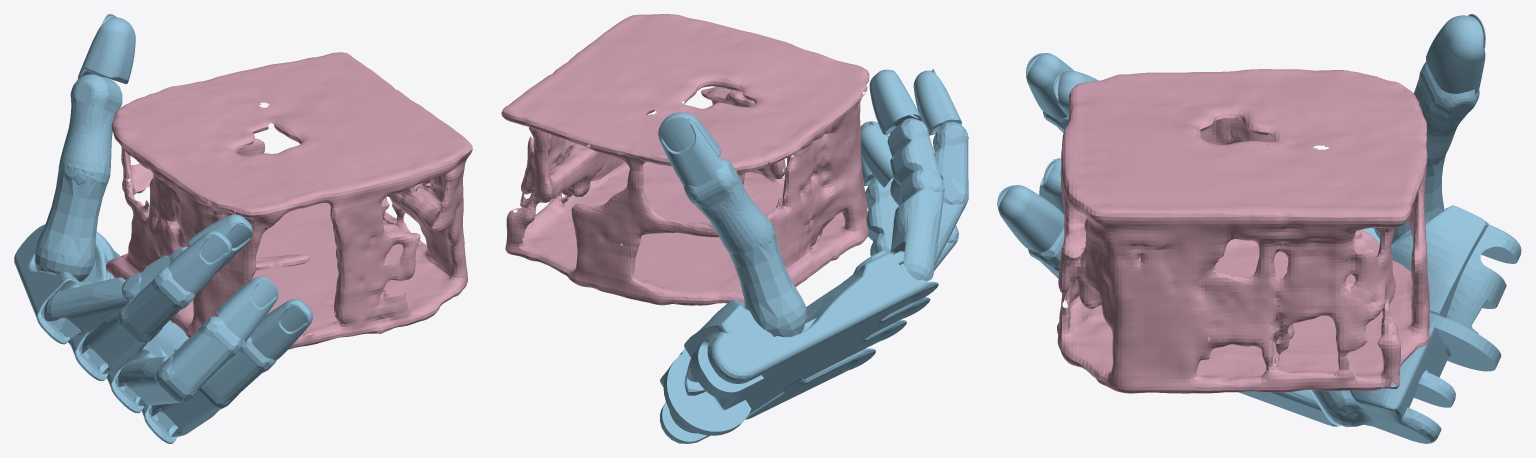
3 views of the same model, side by side, from view 1: azimuth 30°, elevation 25°; view 2: azimuth 150°, elevation 25°; view 3: azimuth 270°, elevation 25° (orthographic). The views are drawn at different scales.
Visible parts, largest first — view 1: world, hand_isaac_q; view 2: world, hand_isaac_q; view 3: world, hand_isaac_q.
Boxes of the visible parts, x1=… form: world: x1=106, y1=52, x2=472, y2=349; hand_isaac_q: x1=14, y1=14, x2=312, y2=443; world: x1=501, y1=14, x2=869, y2=305; hand_isaac_q: x1=658, y1=69, x2=968, y2=443; world: x1=1057, y1=69, x2=1430, y2=393; hand_isaac_q: x1=997, y1=14, x2=1521, y2=443.
Size of the model in its own units: 0.1843 by 0.1628 by 0.1846.
